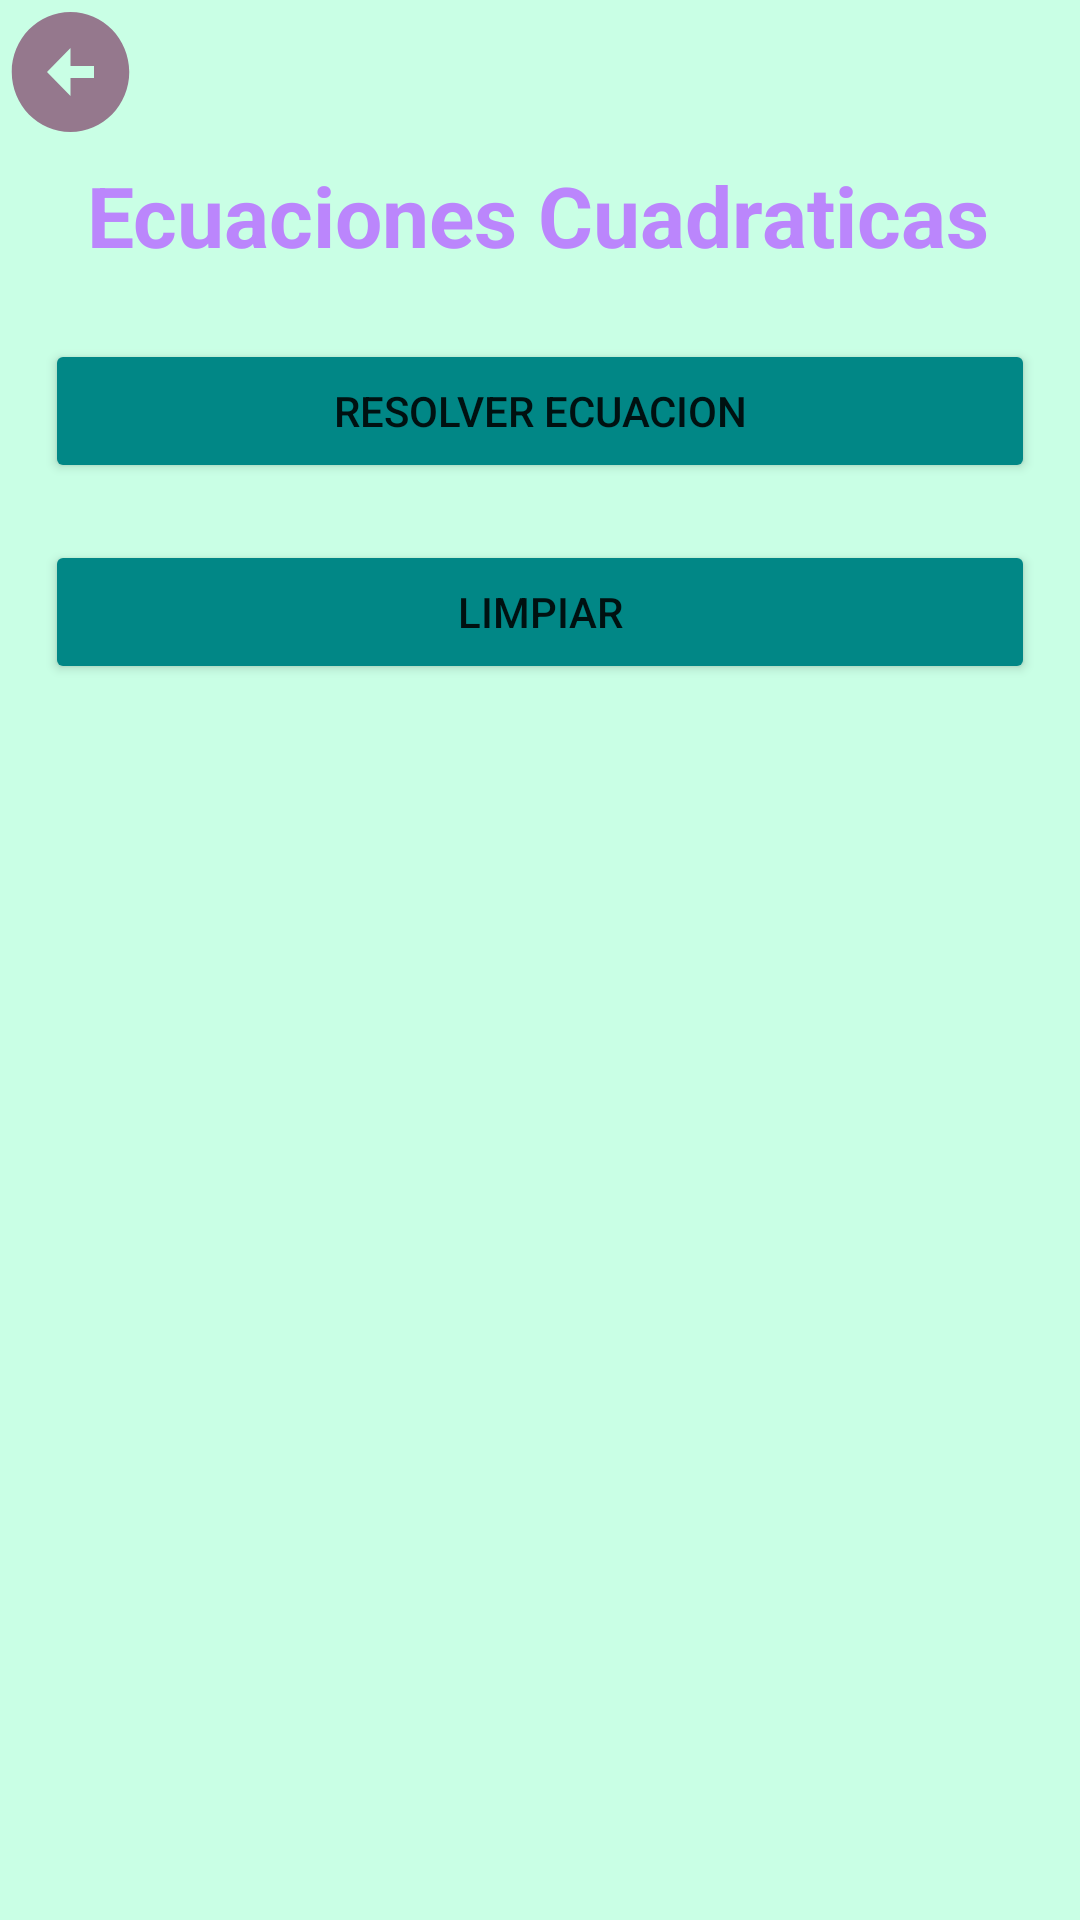

Where icons sit on this 1080 × 1920 app screen, as (x1, y1, x2, y2):
arrow circle left: (11, 12, 130, 132)
